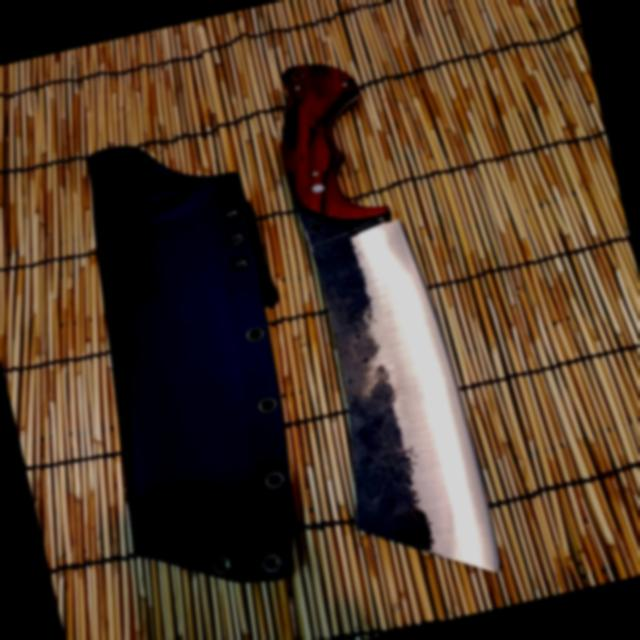eto: (268, 49, 508, 576)
